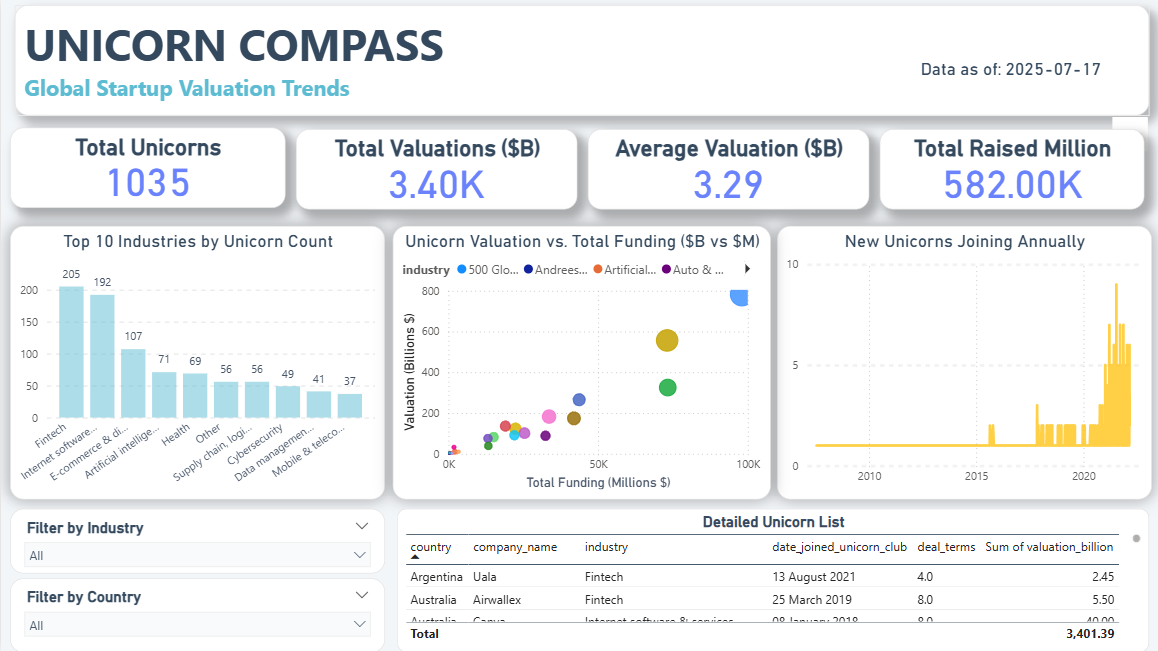

The page's visual inventory and layout, read from the dashboard file:
{"tool":"powerbi","page":{"name":"Page 1","canvas":[1280,720],"ordinal":0},"visuals":[{"type":"textbox","box":[15,6.7,1250,121.7],"z":0},{"type":"card","fields":{"Values":["dim_date.Last Load Date"]},"box":[965,40,295,73.3],"z":1000},{"type":"card","title":"Total Unicorns","fields":{"Values":["CountNonNull(dim_company.company_key)"]},"box":[10,142.1,303.3,88.3],"z":2000},{"type":"card","title":"Total Valuations ($B)","fields":{"Values":["Sum(fact_unicorn_snapshot.valuation_billion)"]},"box":[325,142.5,310,88.3],"z":3000},{"type":"card","title":"Average Valuation ($B)","fields":{"Values":["Avg(fact_unicorn_snapshot.valuation_billion)"]},"box":[646.7,142.5,310,88.3],"z":4000},{"type":"card","title":"Total Raised Million","fields":{"Values":["Sum(fact_unicorn_snapshot.total_raised_million)"]},"box":[968.3,142.5,291.7,88.3],"z":5000},{"type":"clusteredColumnChart","title":"Top 10 Industries by Unicorn Count","fields":{"Category":["dim_company.industry"],"Y":["Count(fact_unicorn_snapshot.company_key)"]},"box":[10,249.4,413.3,301.7],"z":6000},{"type":"lineChart","title":"New Unicorns Joining Annually","fields":{"Category":["dim_company.date_joined_unicorn_club"],"Y":["Count(fact_unicorn_snapshot.company_key)"]},"box":[855,249.4,413.3,301.7],"z":7000},{"type":"scatterChart","title":"Unicorn Valuation vs. Total Funding ($B vs $M)","fields":{"X":["Sum(fact_unicorn_snapshot.total_raised_million)"],"Y":["Sum(fact_unicorn_snapshot.valuation_billion)"],"Series":["dim_company.industry"],"Size":["Sum(fact_unicorn_snapshot.investors_count)"]},"box":[431.7,249.4,416.7,301.7],"z":8000},{"type":"slicer","fields":{"Values":["dim_company.industry"]},"box":[10,561.7,413.3,71.7],"z":9000},{"type":"slicer","fields":{"Values":["dim_company.country"]},"box":[10,638.3,413.3,81.7],"z":10000},{"type":"tableEx","title":"Detailed Unicorn List","fields":{"Values":["dim_company.country","dim_company.company_name","dim_company.industry","dim_company.date_joined_unicorn_club","fact_unicorn_snapshot.deal_terms","Sum(fact_unicorn_snapshot.valuation_billion)"]},"box":[436.7,561.7,828.3,158.3],"z":11000}]}

Visuals, with their boxes in screenshot pixels (x1, y1, x2, y2), scaled from the page's 1280x720 canvas onto the 1158x651 screenshot:
textbox: {"x1": 14, "y1": 6, "x2": 1144, "y2": 116}
card - dim_date.Last Load Date: {"x1": 873, "y1": 36, "x2": 1140, "y2": 102}
"Total Unicorns" card: {"x1": 9, "y1": 128, "x2": 283, "y2": 208}
"Total Valuations ($B)" card: {"x1": 294, "y1": 129, "x2": 574, "y2": 209}
"Average Valuation ($B)" card: {"x1": 585, "y1": 129, "x2": 866, "y2": 209}
"Total Raised Million" card: {"x1": 876, "y1": 129, "x2": 1140, "y2": 209}
"Top 10 Industries by Unicorn Count" clusteredColumnChart: {"x1": 9, "y1": 225, "x2": 383, "y2": 498}
"New Unicorns Joining Annually" lineChart: {"x1": 774, "y1": 225, "x2": 1147, "y2": 498}
"Unicorn Valuation vs. Total Funding ($B vs $M)" scatterChart: {"x1": 391, "y1": 225, "x2": 768, "y2": 498}
slicer - dim_company.industry: {"x1": 9, "y1": 508, "x2": 383, "y2": 573}
slicer - dim_company.country: {"x1": 9, "y1": 577, "x2": 383, "y2": 650}
"Detailed Unicorn List" tableEx: {"x1": 395, "y1": 508, "x2": 1144, "y2": 650}
